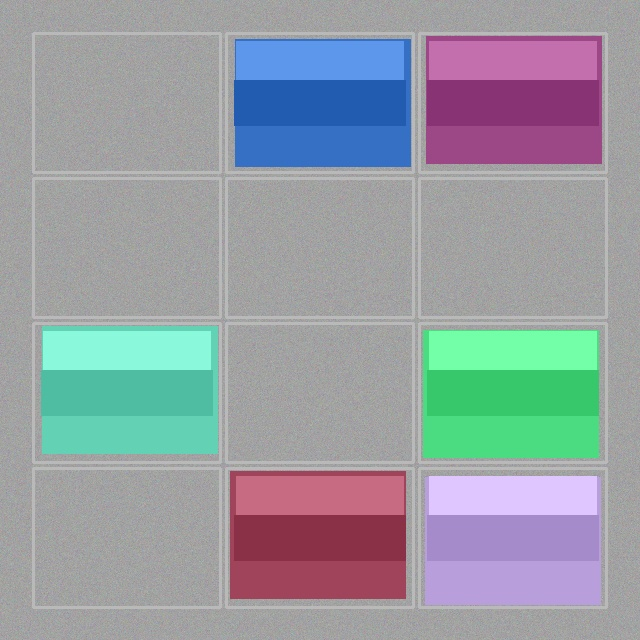space-empty: (35, 35, 218, 170), (35, 180, 218, 315), (228, 180, 411, 315), (421, 180, 604, 315), (228, 325, 411, 460), (35, 470, 218, 605)
space-occupied: (228, 35, 411, 170), (421, 35, 604, 170), (35, 325, 218, 460), (421, 325, 604, 460), (228, 470, 411, 605), (421, 470, 604, 605)
